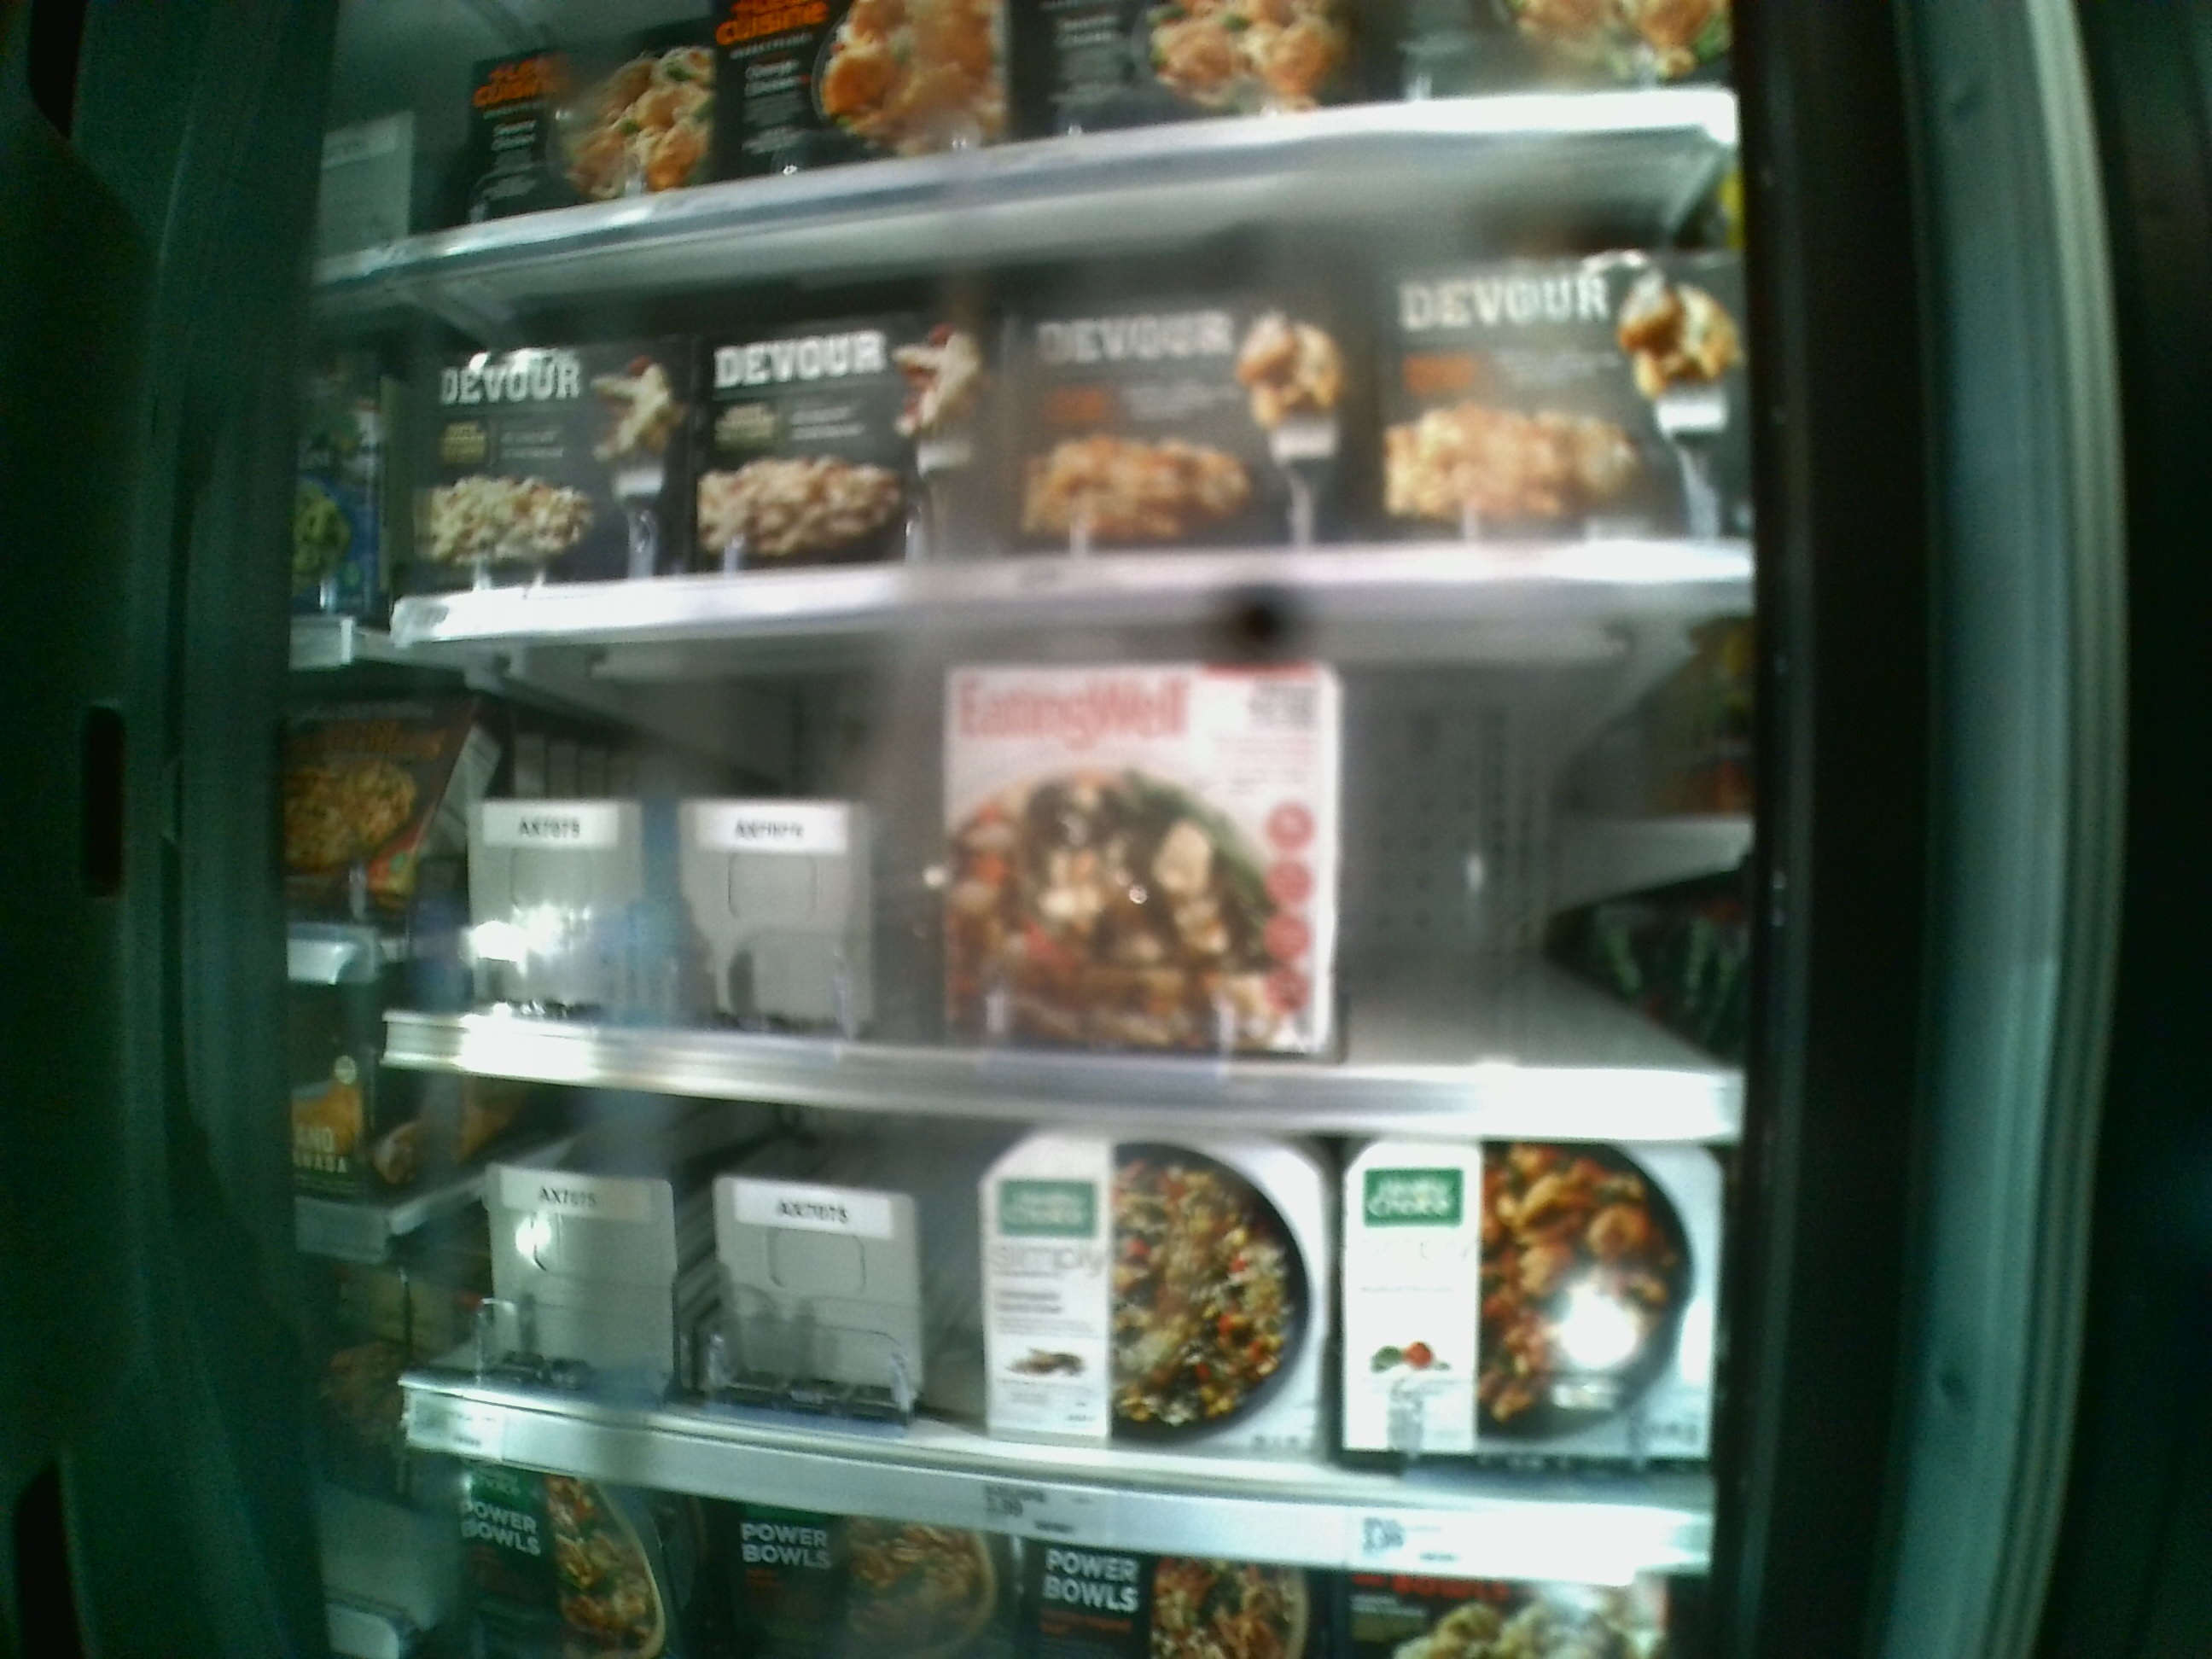shelf: (392, 575, 1743, 1145), (376, 1065, 1712, 1579)
